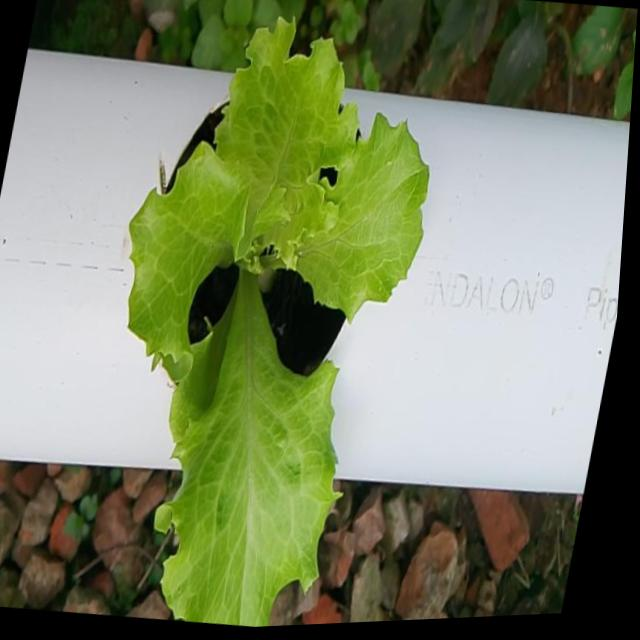Baby: (132, 19, 434, 627)
